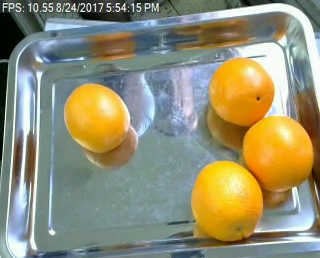Orange: (191, 161, 263, 242), (242, 115, 315, 192), (63, 82, 131, 152), (208, 56, 274, 125)
